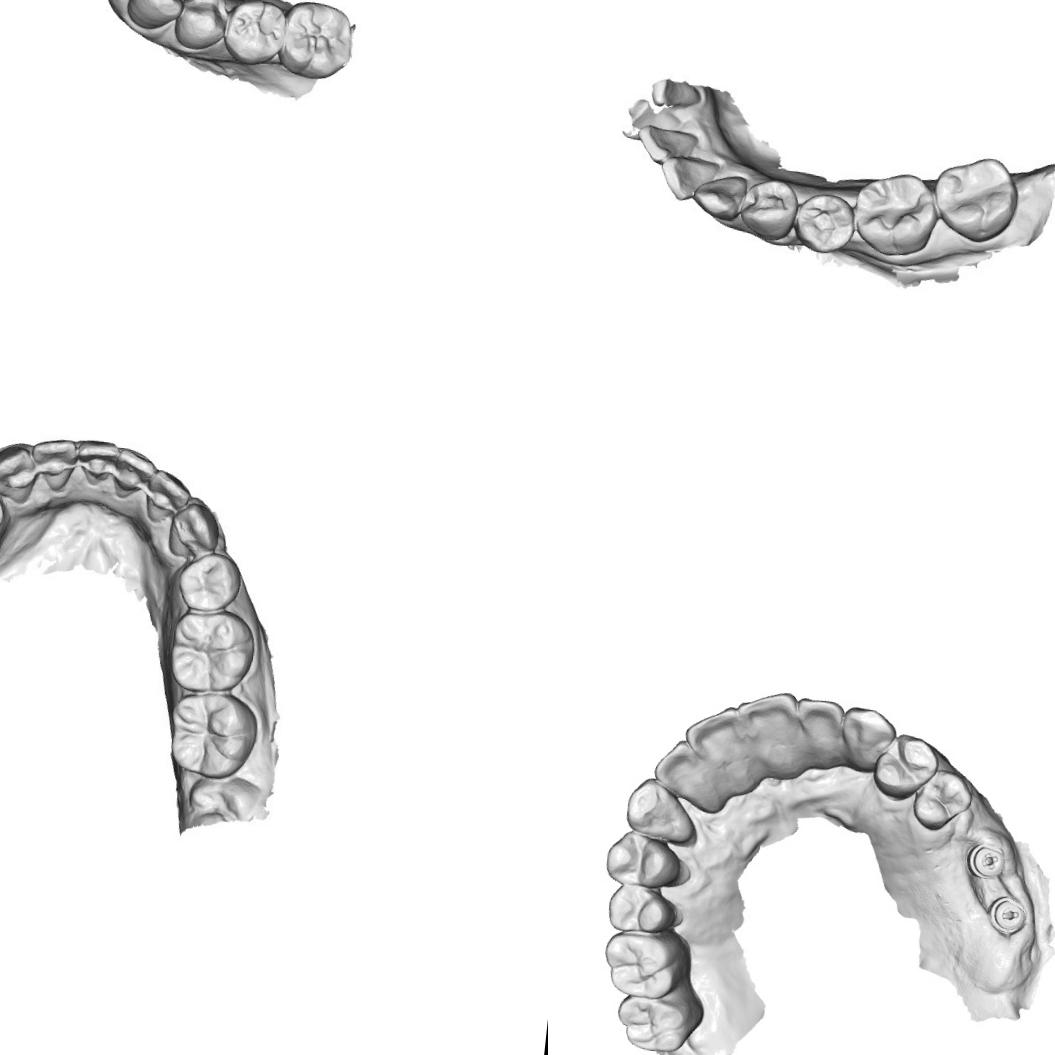canine: (620, 774, 698, 849), (834, 702, 901, 776), (164, 500, 228, 566), (690, 170, 748, 224), (0, 440, 38, 505), (123, 0, 189, 33)
implant_minus: (986, 893, 1032, 938)
implant_plus: (964, 838, 1010, 884)
incisor: (678, 700, 752, 784), (730, 686, 804, 769), (650, 734, 720, 808), (788, 694, 850, 760), (658, 154, 722, 204), (145, 466, 194, 528), (634, 122, 700, 168), (32, 434, 80, 494), (74, 432, 125, 488), (113, 444, 153, 498)
molar: (928, 152, 1022, 247), (850, 168, 942, 261), (166, 690, 258, 782), (168, 604, 256, 699), (598, 925, 696, 1003), (611, 988, 707, 1055), (284, 0, 359, 81)
premolar: (870, 729, 942, 806), (602, 828, 688, 892), (604, 879, 690, 939), (909, 763, 977, 836), (220, 0, 291, 66), (175, 550, 244, 617), (791, 190, 858, 256), (737, 176, 800, 243), (176, 0, 235, 48)
